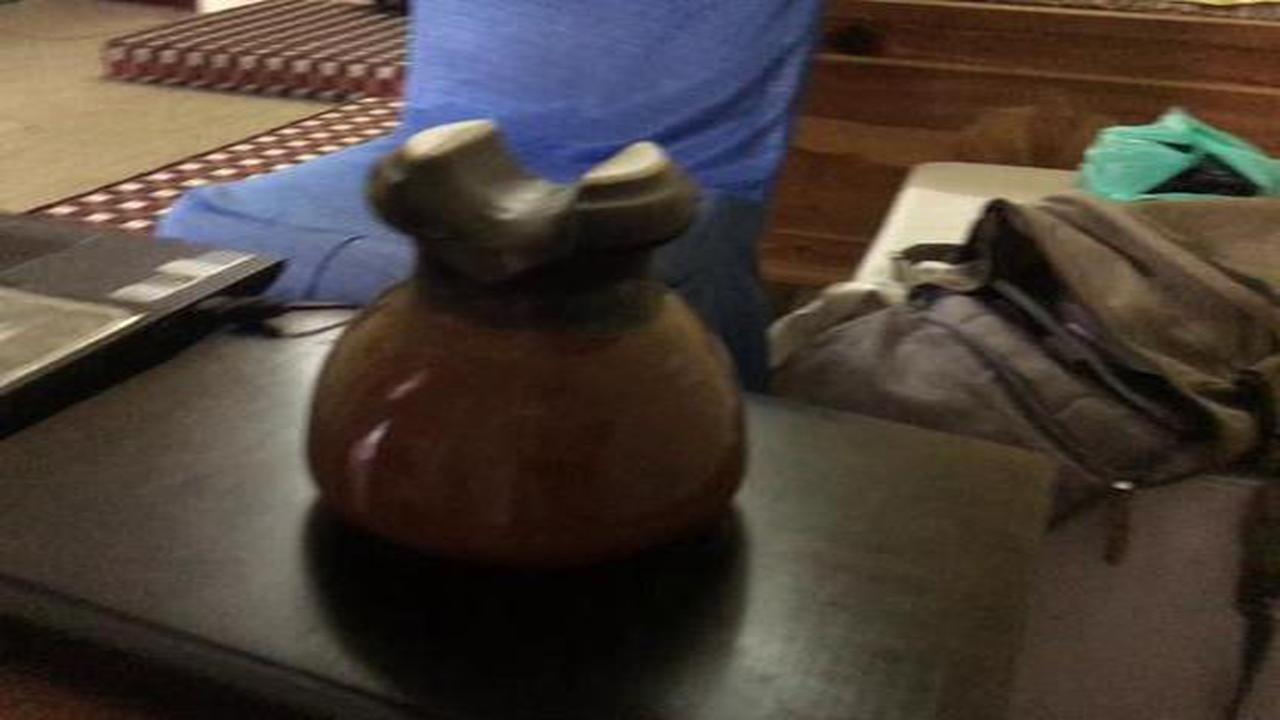insulator_pin: (290, 101, 776, 617)
